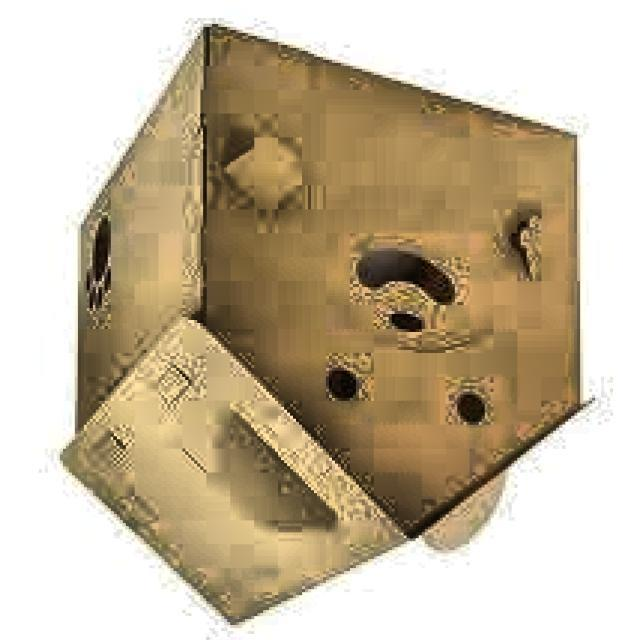cardboard: (57, 24, 592, 631)
